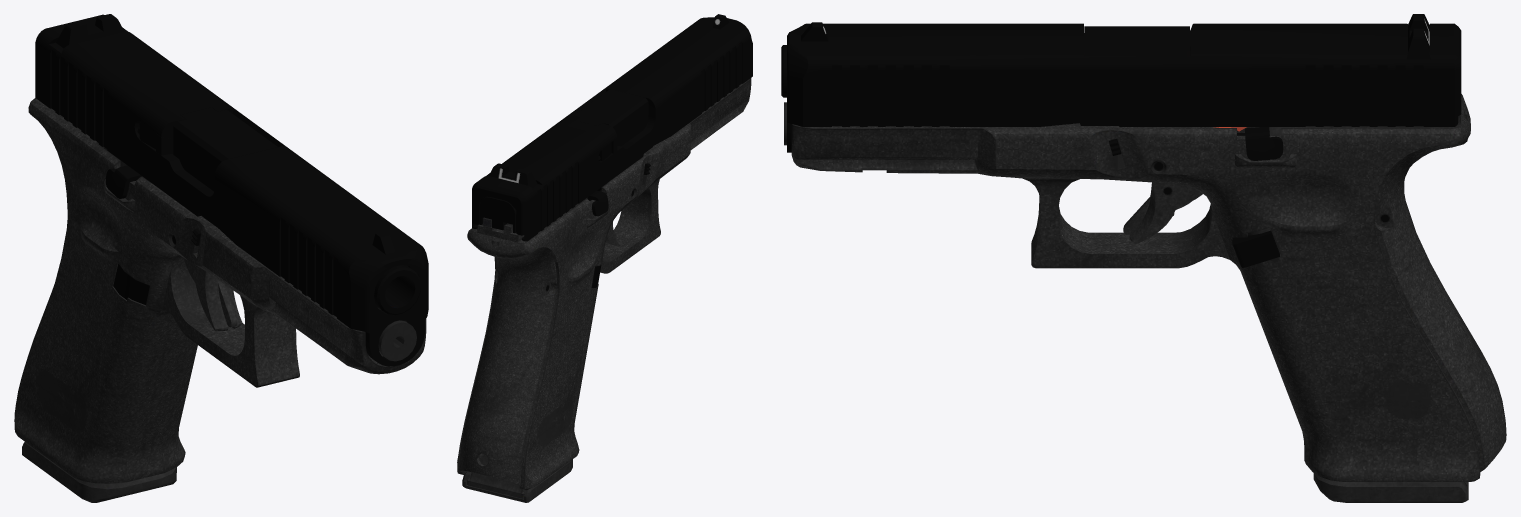
File: Glock 17 Air Pistol.fbx
3 renders of one model, left to right at view 1: azimuth 30°, elevation 25°; view 2: azimuth 150°, elevation 25°; view 3: azimuth 270°, elevation 25°, orthographic. The views are drawn at different scales.
Parts seen in each view (by area): view 1: Frame_LP, Slide_LP, Barrel_LP, Plate_LP, Trigger_LP, Recoil_LP, Rear_Sight_LP, Mag_Catch_LP, Sldie_Stop_Lever_LP, Extractor_LP, Trigger_Safety_LP; view 2: Frame_LP, Slide_LP, Barrel_LP, Back_Plate_LP, Plate_LP, Case_LP, Rear_Sight_LP, Sldie_Stop_Lever_LP; view 3: Frame_LP, Slide_LP, Barrel_LP, Plate_LP, Trigger_LP, Mag_Catch_LP, Sldie_Stop_Lever_LP, Rear_Sight_LP.
Boxes of the visible parts, left/top/right/bottom form: Frame_LP: left=14, top=98, right=426, bottom=483; Slide_LP: left=35, top=14, right=428, bottom=366; Barrel_LP: left=173, top=107, right=421, bottom=315; Plate_LP: left=22, top=442, right=176, bottom=502; Trigger_LP: left=183, top=258, right=242, bottom=330; Recoil_LP: left=378, top=320, right=416, bottom=361; Rear_Sight_LP: left=56, top=14, right=123, bottom=48; Mag_Catch_LP: left=113, top=264, right=149, bottom=305; Sldie_Stop_Lever_LP: left=105, top=165, right=141, bottom=198; Extractor_LP: left=139, top=122, right=173, bottom=155; Trigger_Safety_LP: left=218, top=281, right=237, bottom=327; Frame_LP: left=457, top=78, right=751, bottom=490; Slide_LP: left=472, top=17, right=752, bottom=241; Barrel_LP: left=574, top=89, right=648, bottom=146; Back_Plate_LP: left=479, top=196, right=516, bottom=233; Plate_LP: left=462, top=459, right=572, bottom=502; Case_LP: left=467, top=198, right=587, bottom=498; Rear_Sight_LP: left=489, top=163, right=537, bottom=187; Sldie_Stop_Lever_LP: left=587, top=187, right=608, bottom=216; Frame_LP: left=791, top=94, right=1506, bottom=481; Slide_LP: left=787, top=23, right=1461, bottom=152; Barrel_LP: left=781, top=26, right=1202, bottom=97; Plate_LP: left=1313, top=473, right=1468, bottom=502; Trigger_LP: left=1129, top=182, right=1200, bottom=243; Mag_Catch_LP: left=1232, top=230, right=1279, bottom=267; Sldie_Stop_Lever_LP: left=1237, top=127, right=1283, bottom=160; Rear_Sight_LP: left=1406, top=14, right=1430, bottom=59.
Size of the model in its own units: 46.78 by 182 by 262.
1 material, 1 textured.
